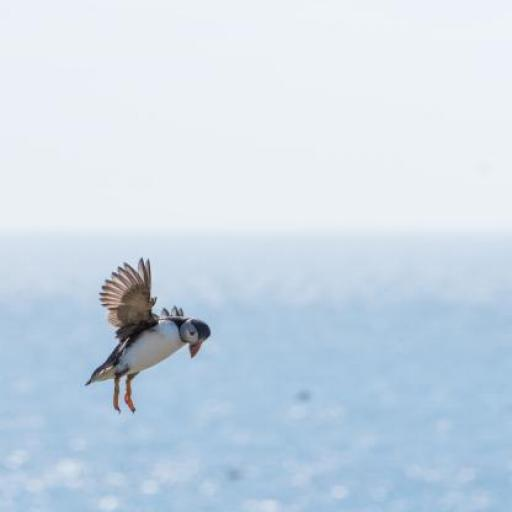bird: (84, 258, 211, 413)
